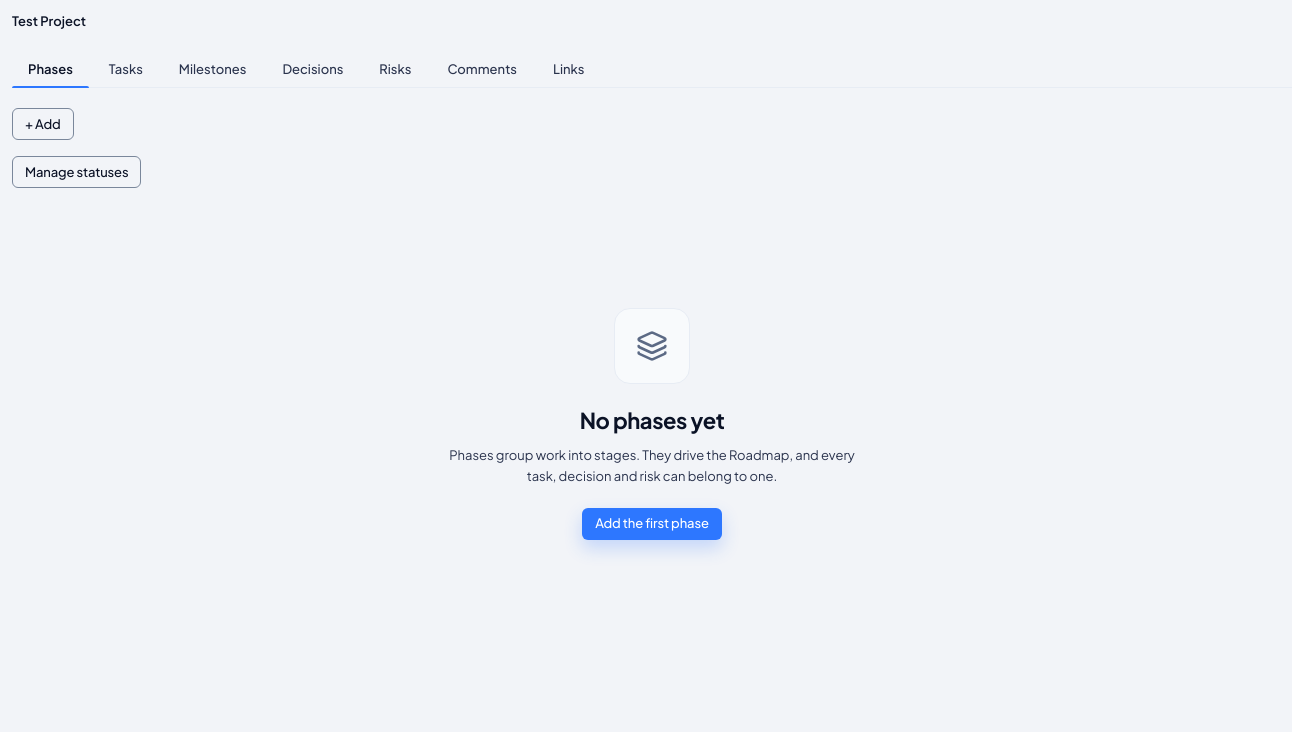
Test: PlanningPanel › the empty state explains the surface and opens the create form (#159)
This screenshot has width=1292, height=732.
Expected: the text "Test Project" is shown, x1=12 y1=13 x2=86 y2=29
Expected: the text "Phases group work into stages" is shown, x1=449 y1=447 x2=855 y2=484
Click the button "Add the first phase" at {"x": 652, "y": 524}, box x1=582 y1=508 x2=722 y2=540
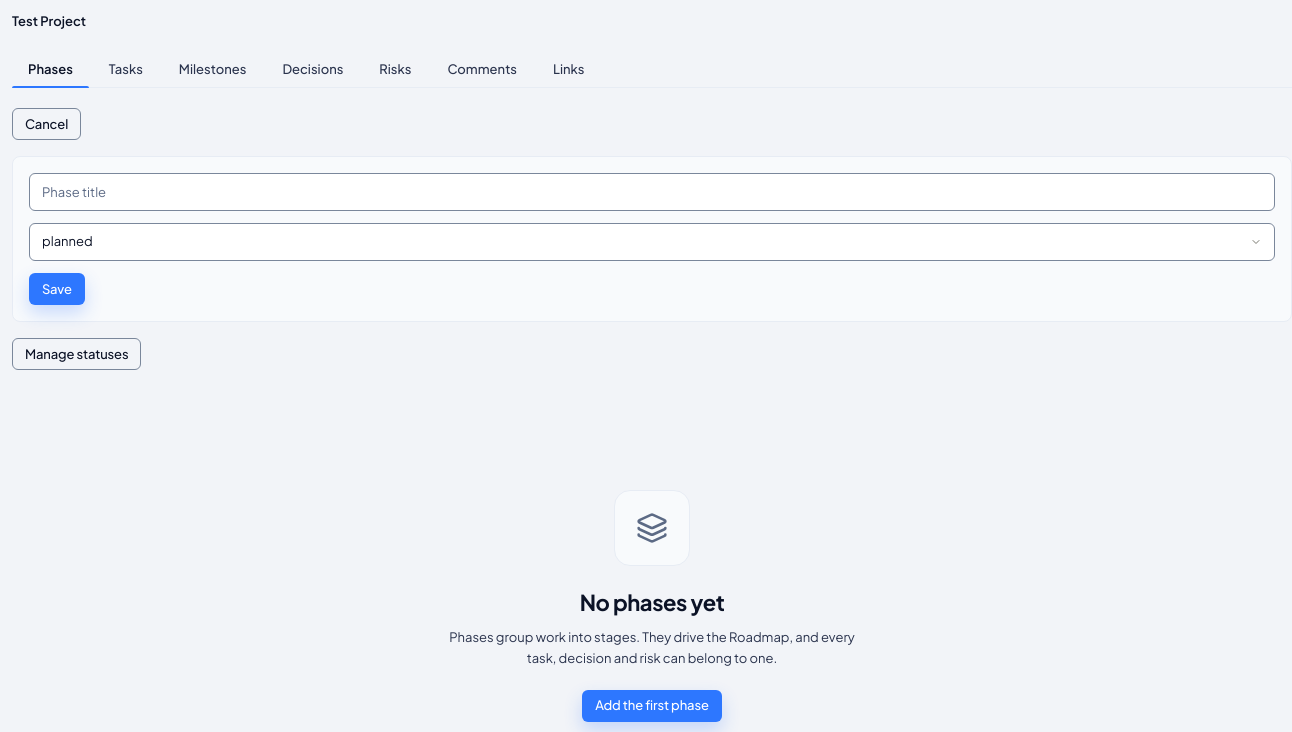
Result: the field labelled "Phase title" is shown at x1=29 y1=173 x2=1275 y2=211
